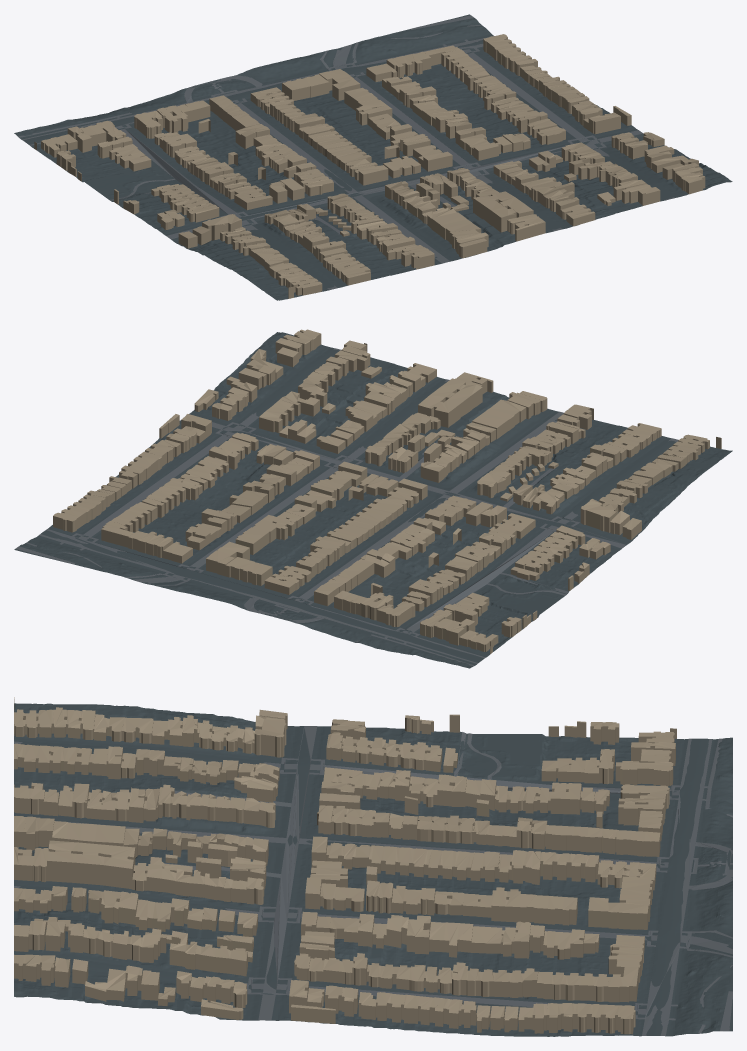
File: epsg26910-1417-10887.lod0.glb
3 renders of one model, top to bottom at view 1: azimuth 30°, elevation 25°; view 2: azimuth 150°, elevation 25°; view 3: azimuth 270°, elevation 25°, orthographic. The views are drawn at different scales.
Parts seen in each view (by area): view 1: epsg26910-1417-10887-lod0; view 2: epsg26910-1417-10887-lod0; view 3: epsg26910-1417-10887-lod0.
Part boxes in pixels (x1=…): epsg26910-1417-10887-lod0: x1=14, y1=14, x2=732, y2=300; epsg26910-1417-10887-lod0: x1=14, y1=329, x2=732, y2=668; epsg26910-1417-10887-lod0: x1=14, y1=697, x2=732, y2=1036.
Size of the model in its own units: 384 by 37.01 by 384.
